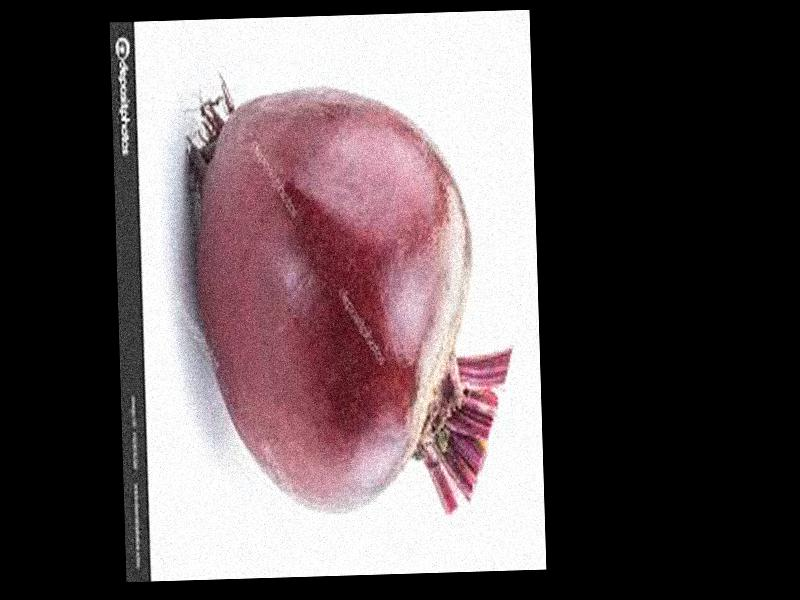Beet: (189, 83, 512, 518)
